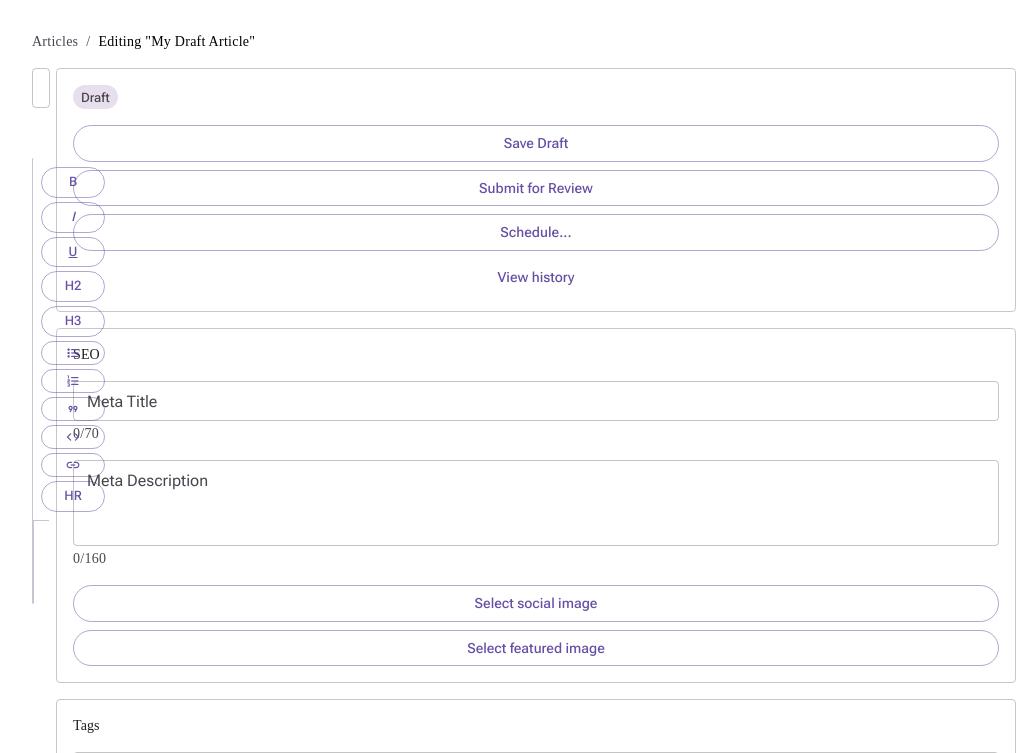
ContentEditorPage › meta title counter updates as user types
expect the text "0/70" is shown: met, box [73, 426, 99, 441]
Type "Hello" into the field labelled "Meta Title". click: (536, 401)
box: [73, 381, 999, 421]
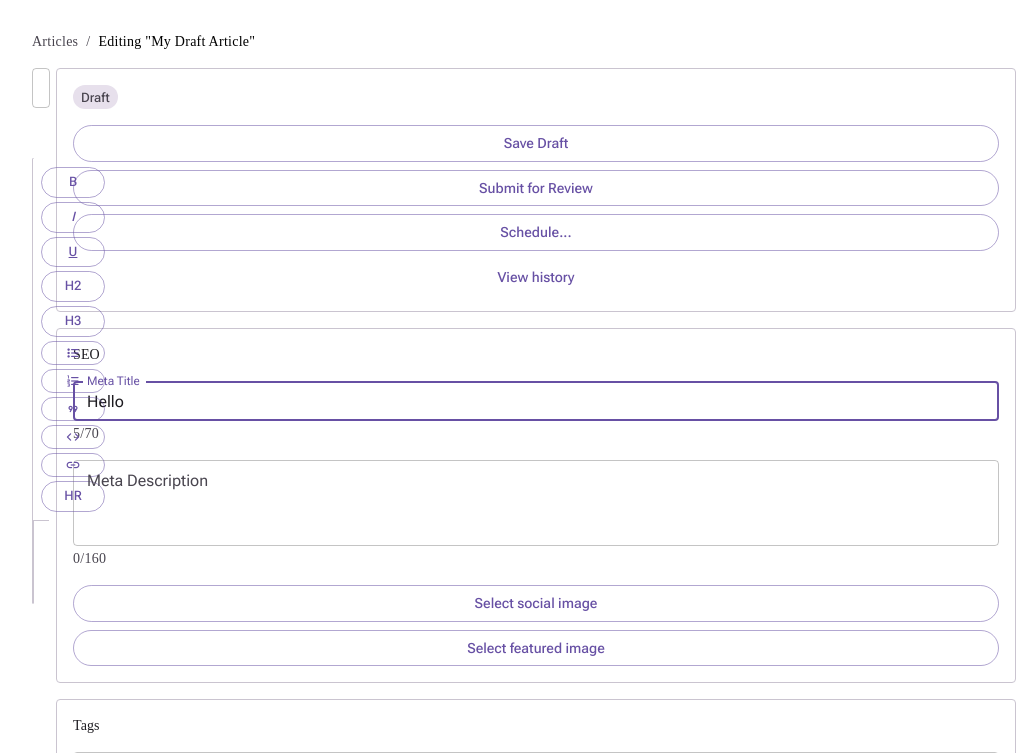
expect the text "5/70" is shown: met, box [73, 426, 99, 441]
